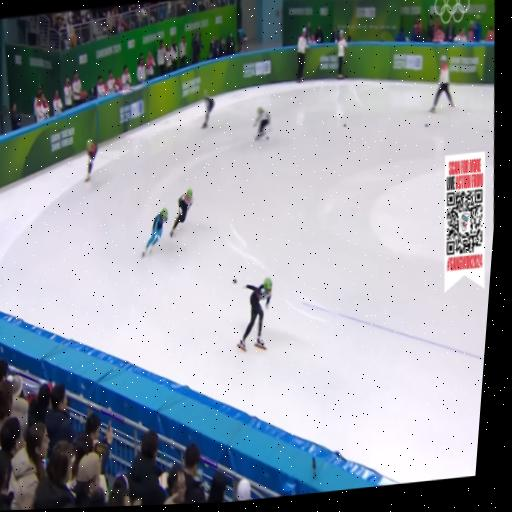Skater: (239, 278, 271, 350), (143, 208, 167, 256), (171, 188, 193, 237), (254, 108, 271, 139), (85, 140, 98, 180), (202, 91, 215, 128)
